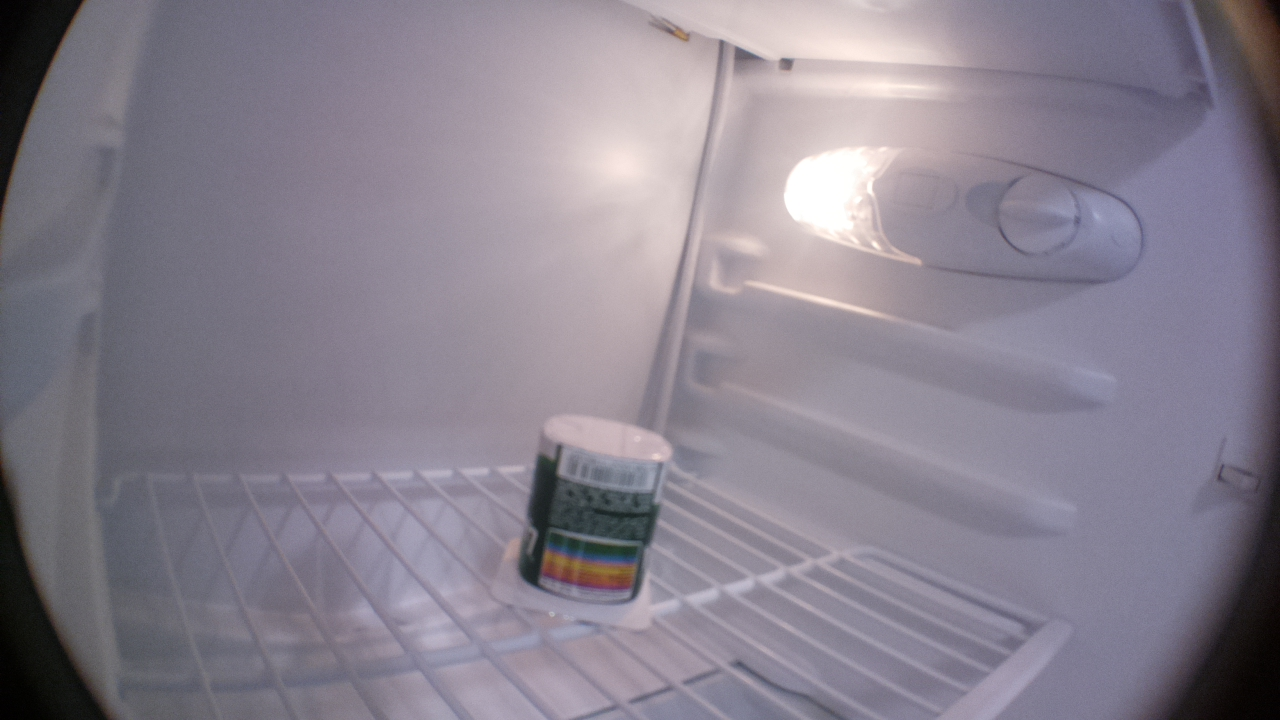yoghurt: (490, 413, 674, 633)
